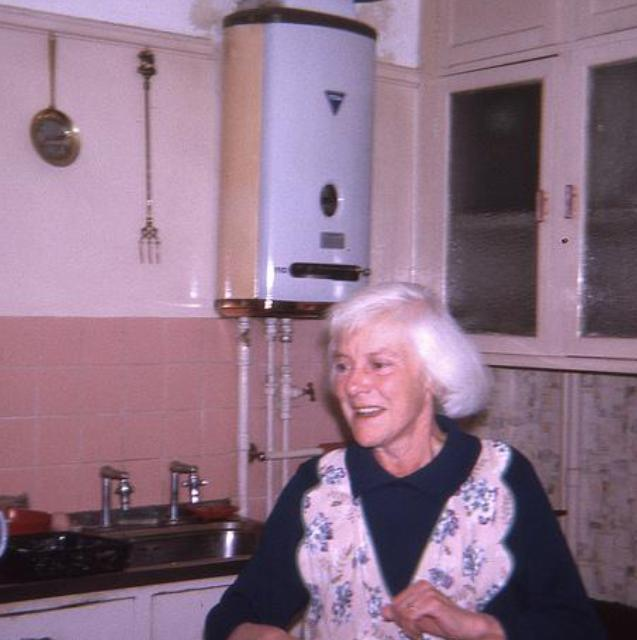Lavaplatos: (54, 454, 303, 586)
